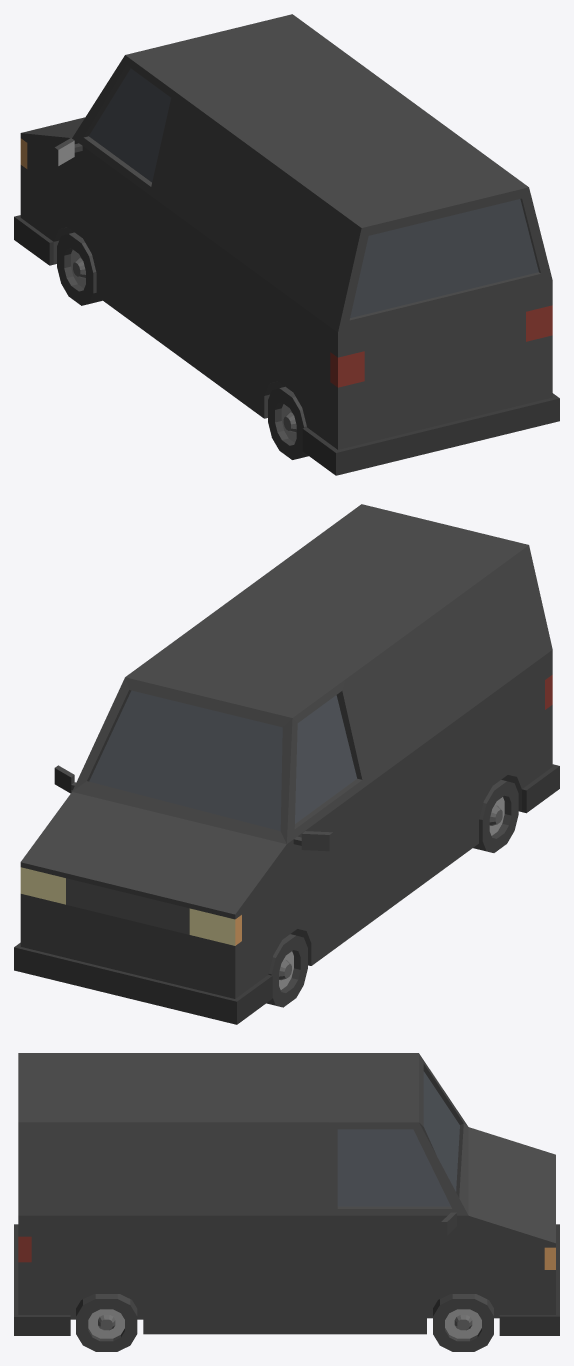
Rendered from car04.fbx.
The picture shows the model from 3 angles, top to bottom: view 1: azimuth 30°, elevation 25°; view 2: azimuth 150°, elevation 25°; view 3: azimuth 270°, elevation 25°; orthographic projection. The views are drawn at different scales.
Parts seen in each view (by area): view 1: car010, tire02, tire04; view 2: car010, tire04, tire02; view 3: car010, tire03, tire01.
Boxes of the visible parts, x1,y1,x2,y2 form: car010: (14,14,559,475); tire02: (57,232,102,305); tire04: (268,386,308,459); car010: (14,504,559,1024); tire04: (473,780,518,852); tire02: (266,934,307,1007); car010: (14,1053,559,1335); tire03: (76,1294,137,1351); tire01: (433,1294,493,1351).
Bounding box in the file's own units: 292 × 594 × 264.
